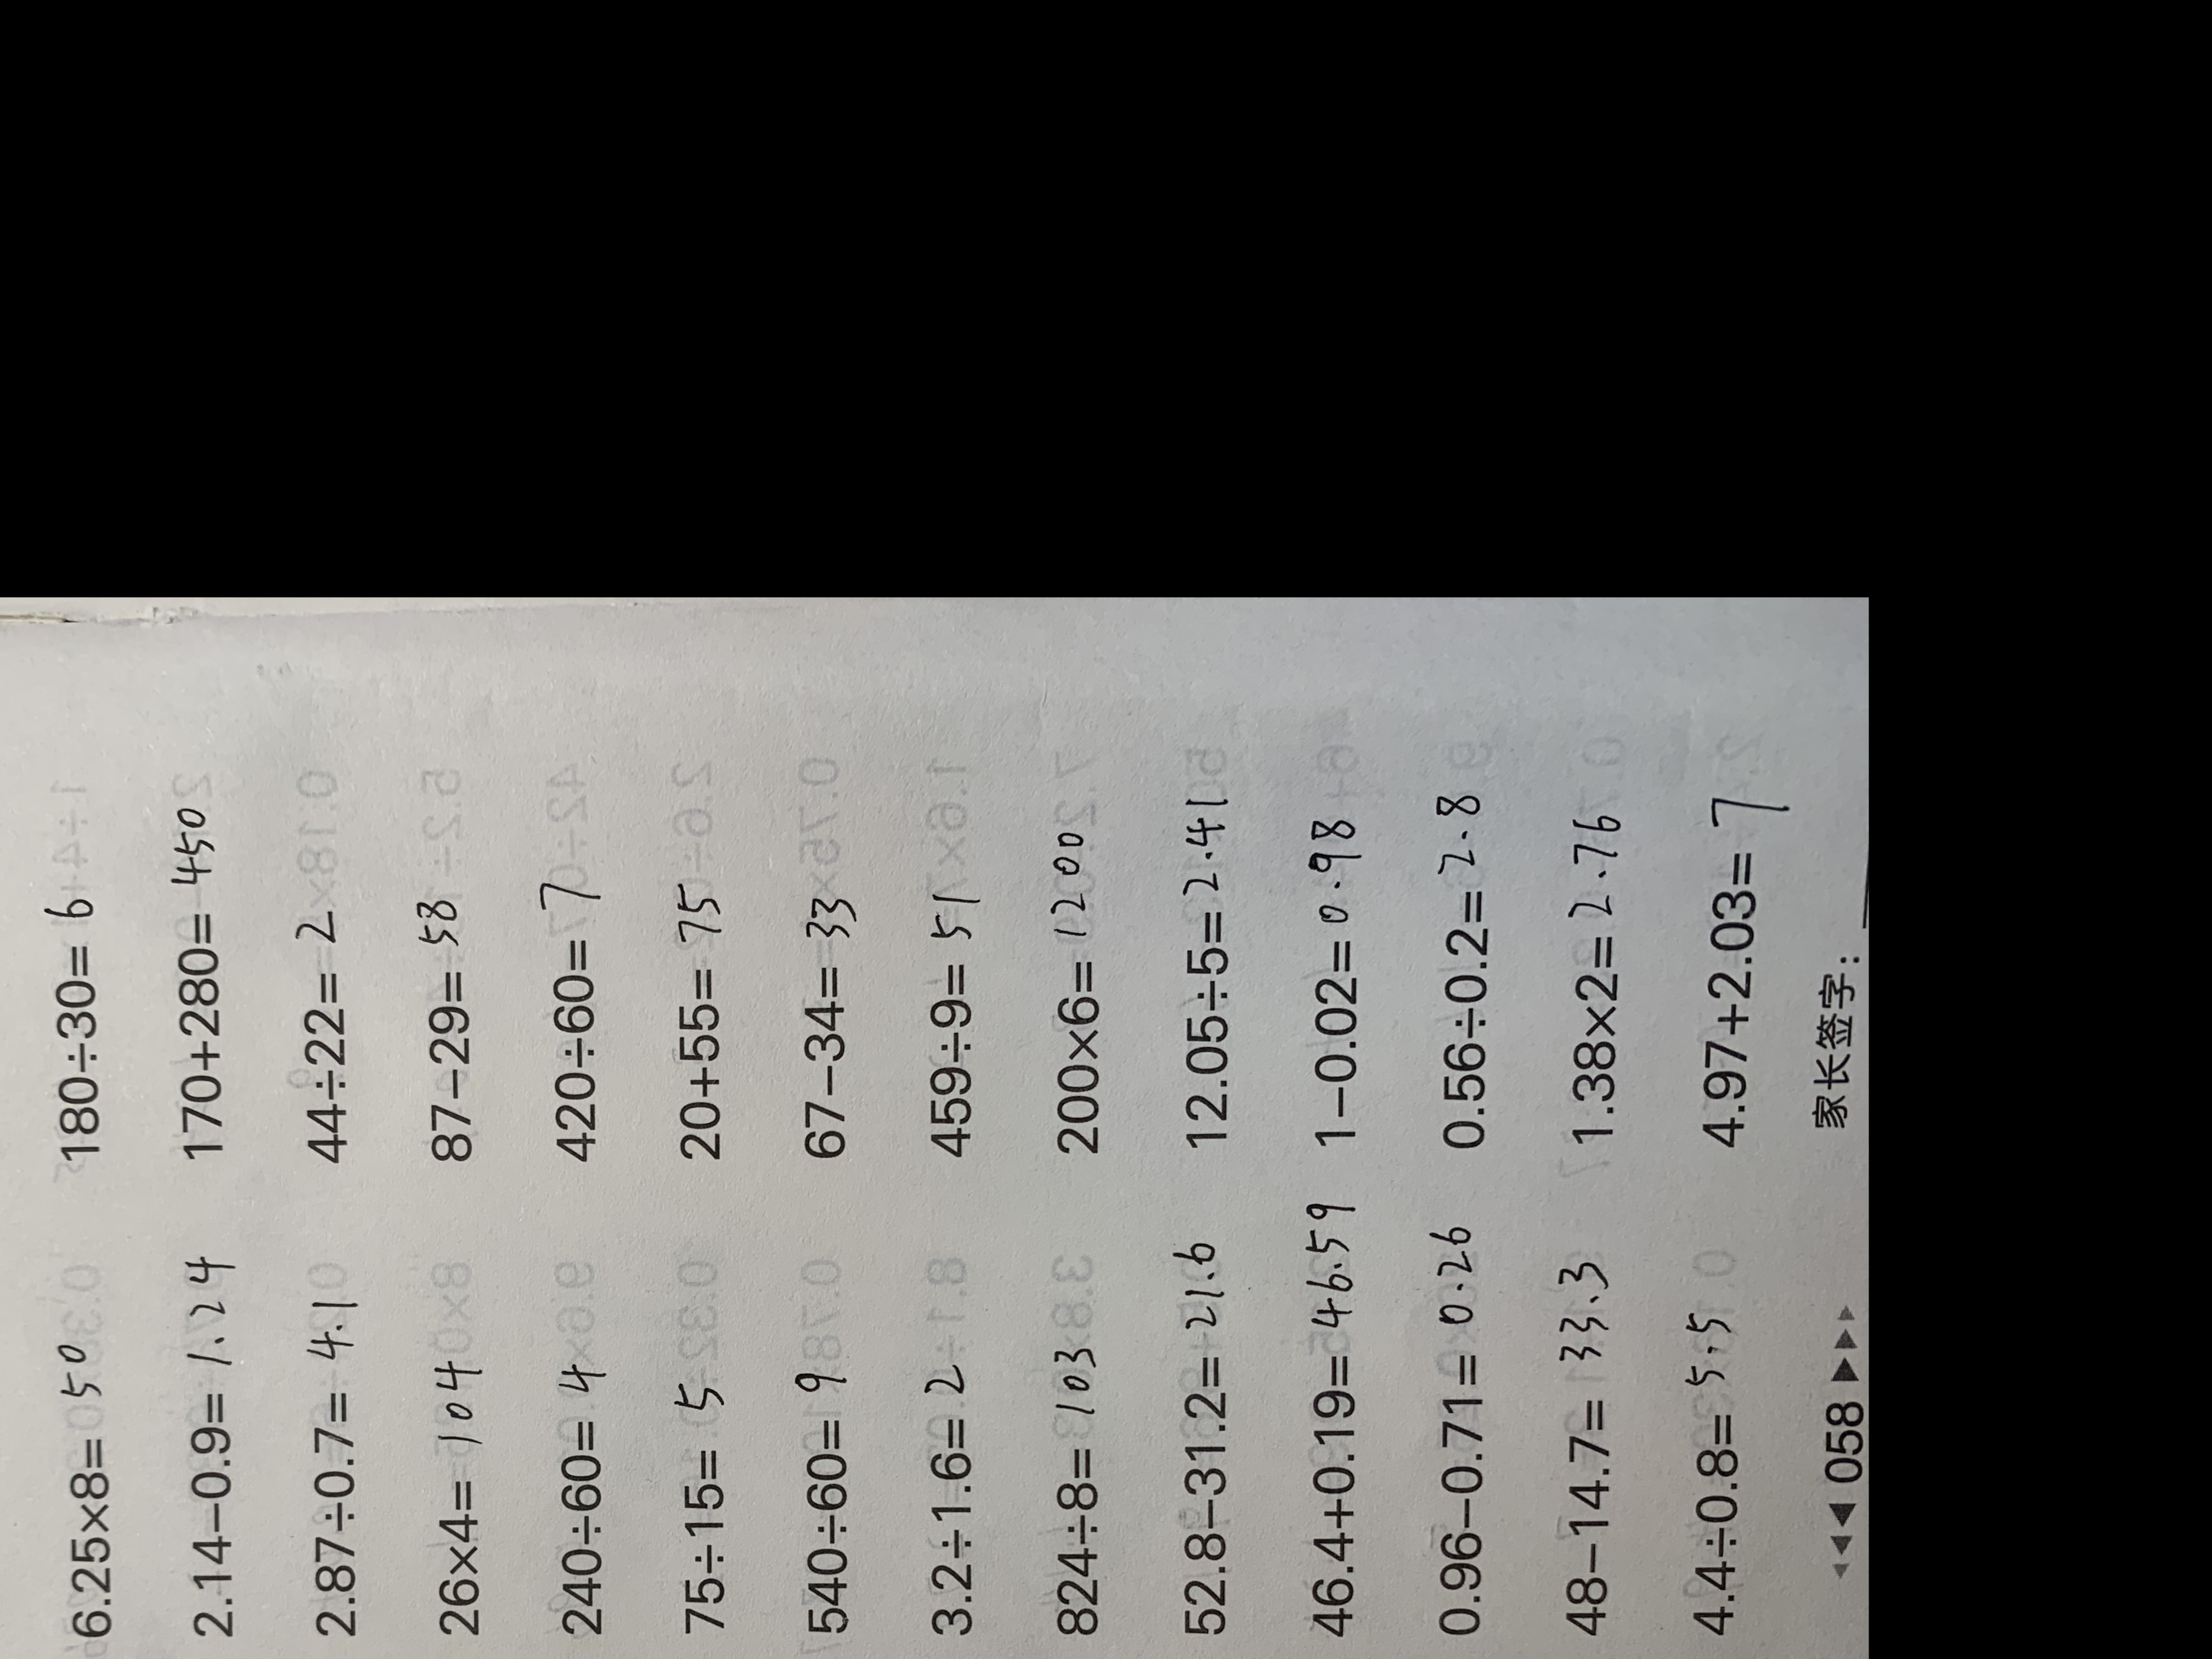equation: (472, 985, 1003, 1039), (472, 1079, 954, 1134), (0, 1079, 416, 1141), (1106, 978, 1604, 1028), (465, 805, 948, 854), (1106, 1253, 1503, 1312), (465, 894, 888, 946), (1103, 1448, 1482, 1506), (1109, 1546, 1489, 1601), (1094, 796, 1555, 842), (1103, 882, 1482, 936), (472, 1265, 862, 1317), (475, 1169, 866, 1222), (472, 1445, 848, 1499), (469, 1541, 855, 1593), (475, 1352, 836, 1406), (1099, 1164, 1479, 1215), (1109, 1356, 1500, 1405), (1099, 1072, 1460, 1122), (0, 1176, 373, 1222), (0, 1361, 310, 1412), (0, 1265, 291, 1317), (0, 807, 235, 864), (0, 1453, 261, 1504), (0, 897, 218, 950), (0, 1539, 199, 1593), (1109, 1636, 1571, 1659), (0, 993, 188, 1046), (469, 1636, 881, 1659), (0, 1640, 265, 1659)
